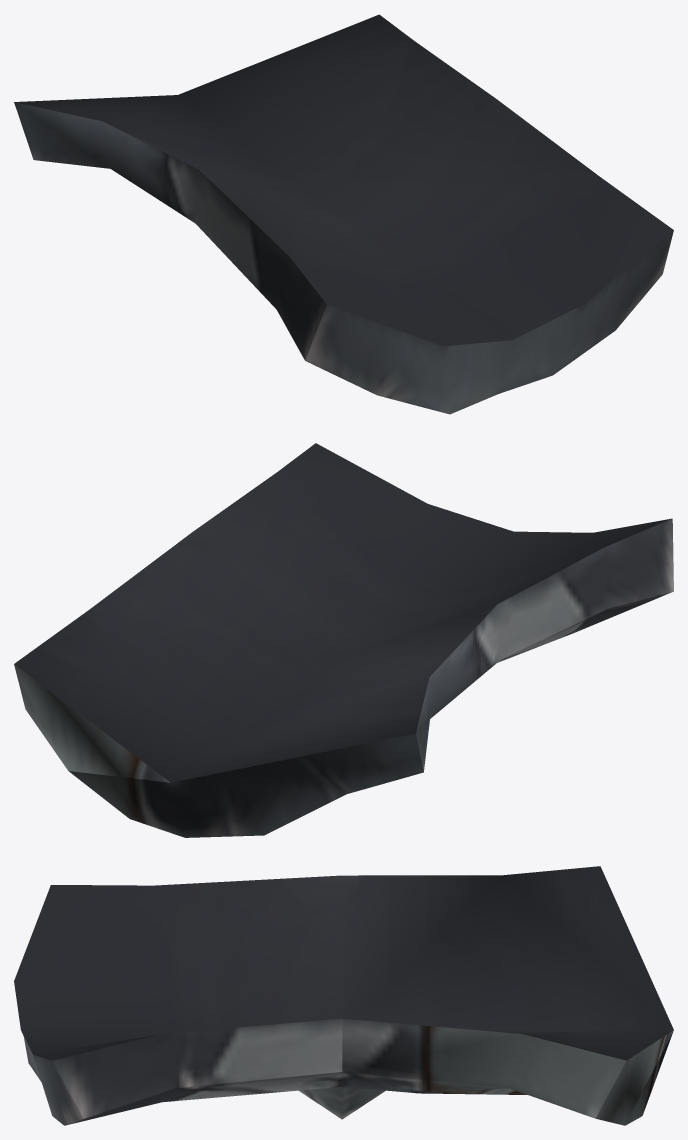
Rendered from model_rank1.glb.
The picture shows the model from 3 angles, top to bottom: view 1: azimuth 30°, elevation 25°; view 2: azimuth 150°, elevation 25°; view 3: azimuth 270°, elevation 25°; orthographic projection. The views are drawn at different scales.
Visible parts, largest first — view 1: plate.model_rank1-Mesh[0]; view 2: plate.model_rank1-Mesh[0]; view 3: plate.model_rank1-Mesh[0].
Part boxes in pixels (x1,y1,x2,y2): plate.model_rank1-Mesh[0]: (14,14,673,414); plate.model_rank1-Mesh[0]: (14,443,673,837); plate.model_rank1-Mesh[0]: (14,866,673,1125).
Bounding box in the file's own units: 0.5792 × 0.2565 × 0.8848.
Materials: 1 (1 with a texture image).
